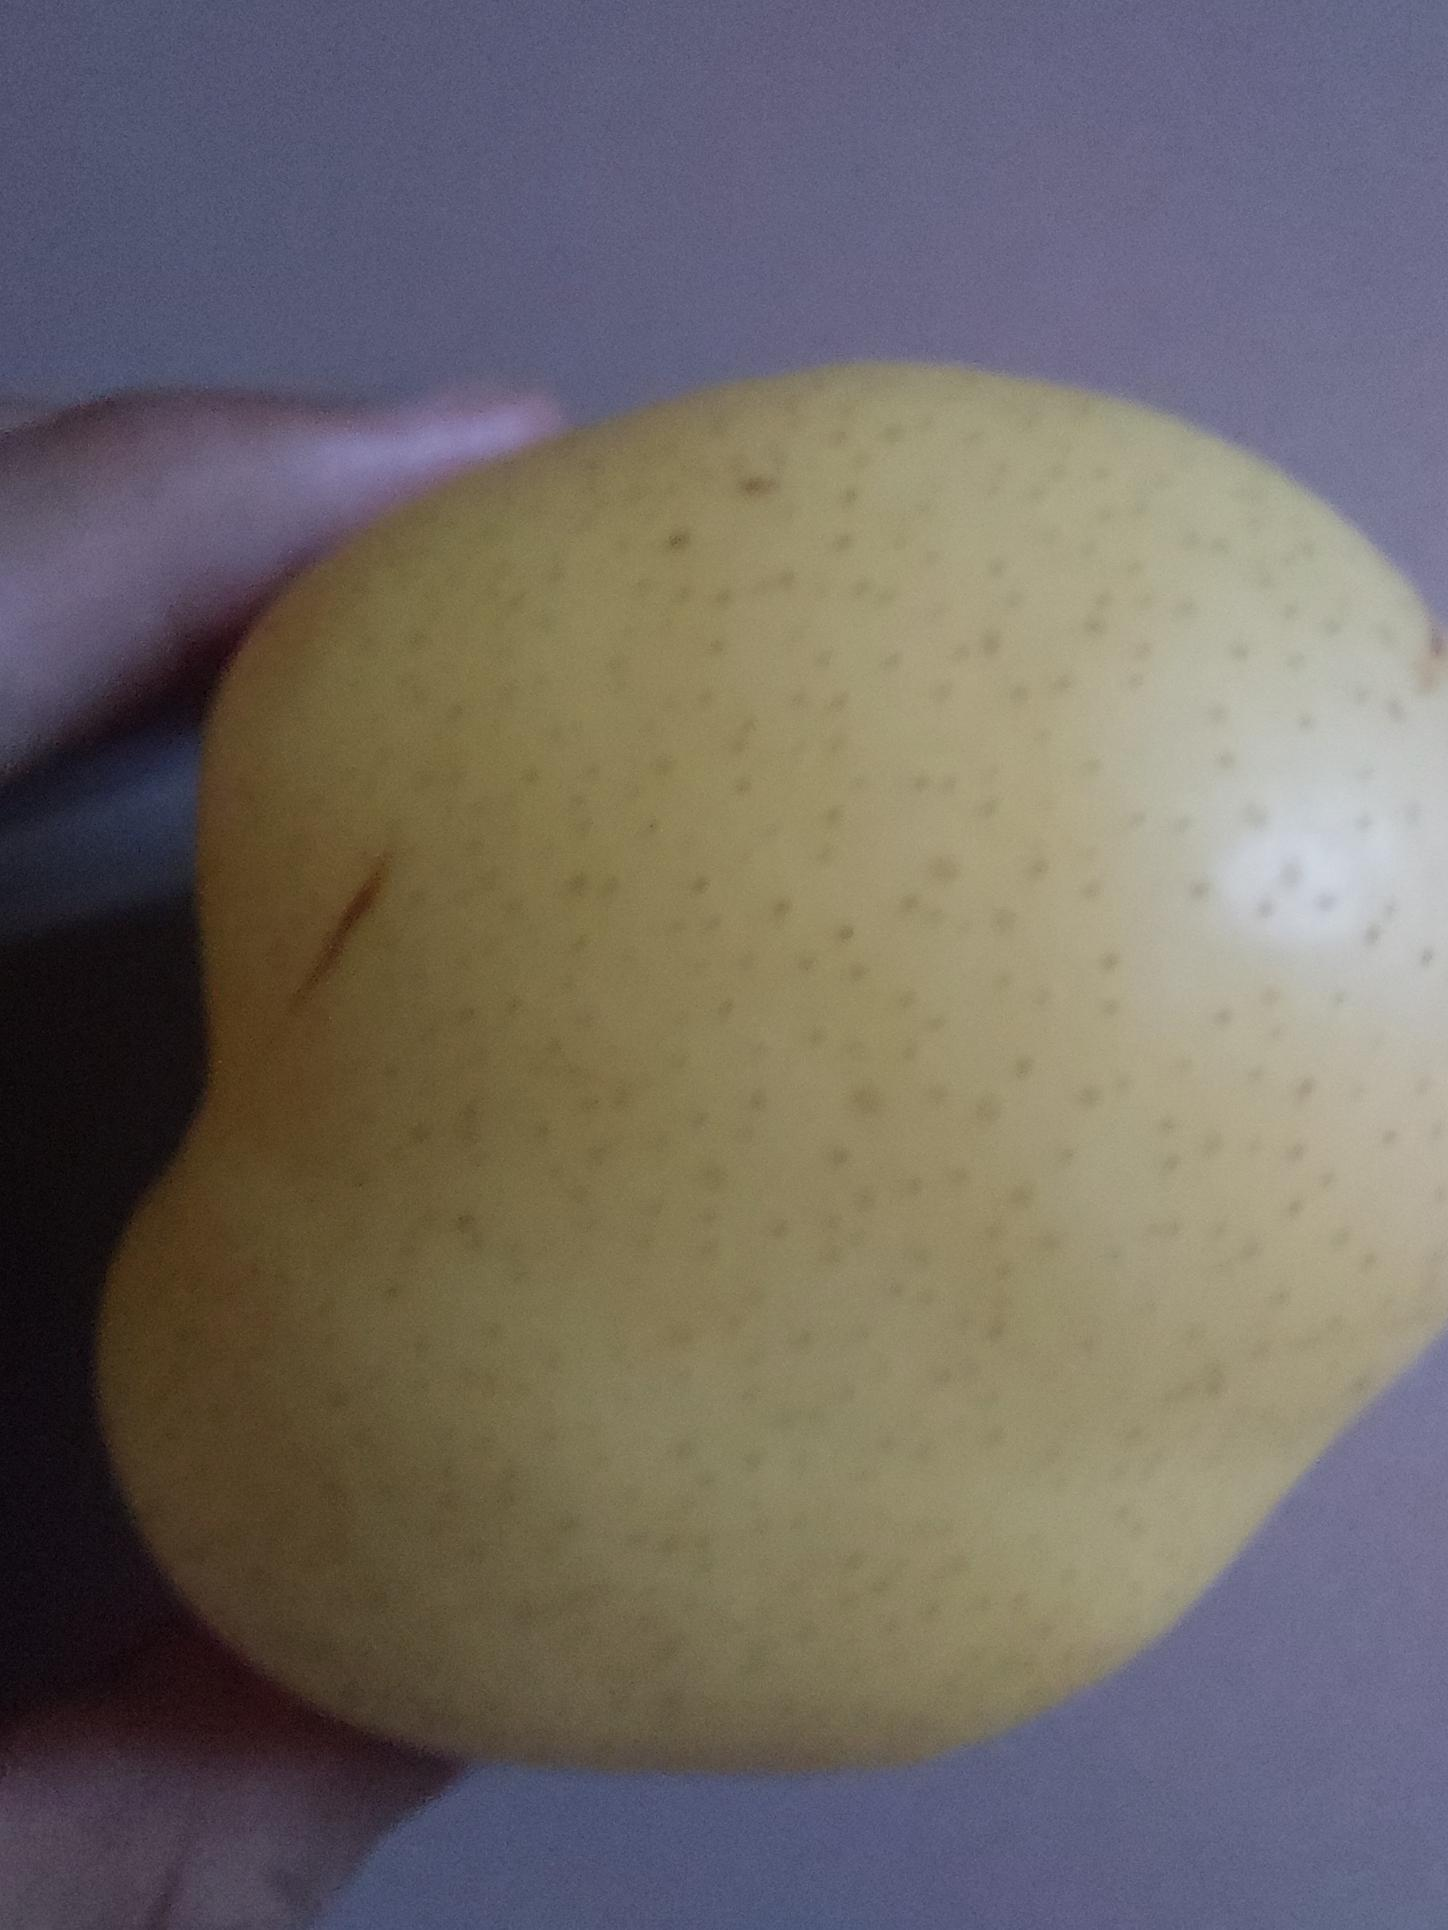Good Pear: (97, 356, 1448, 1792)
